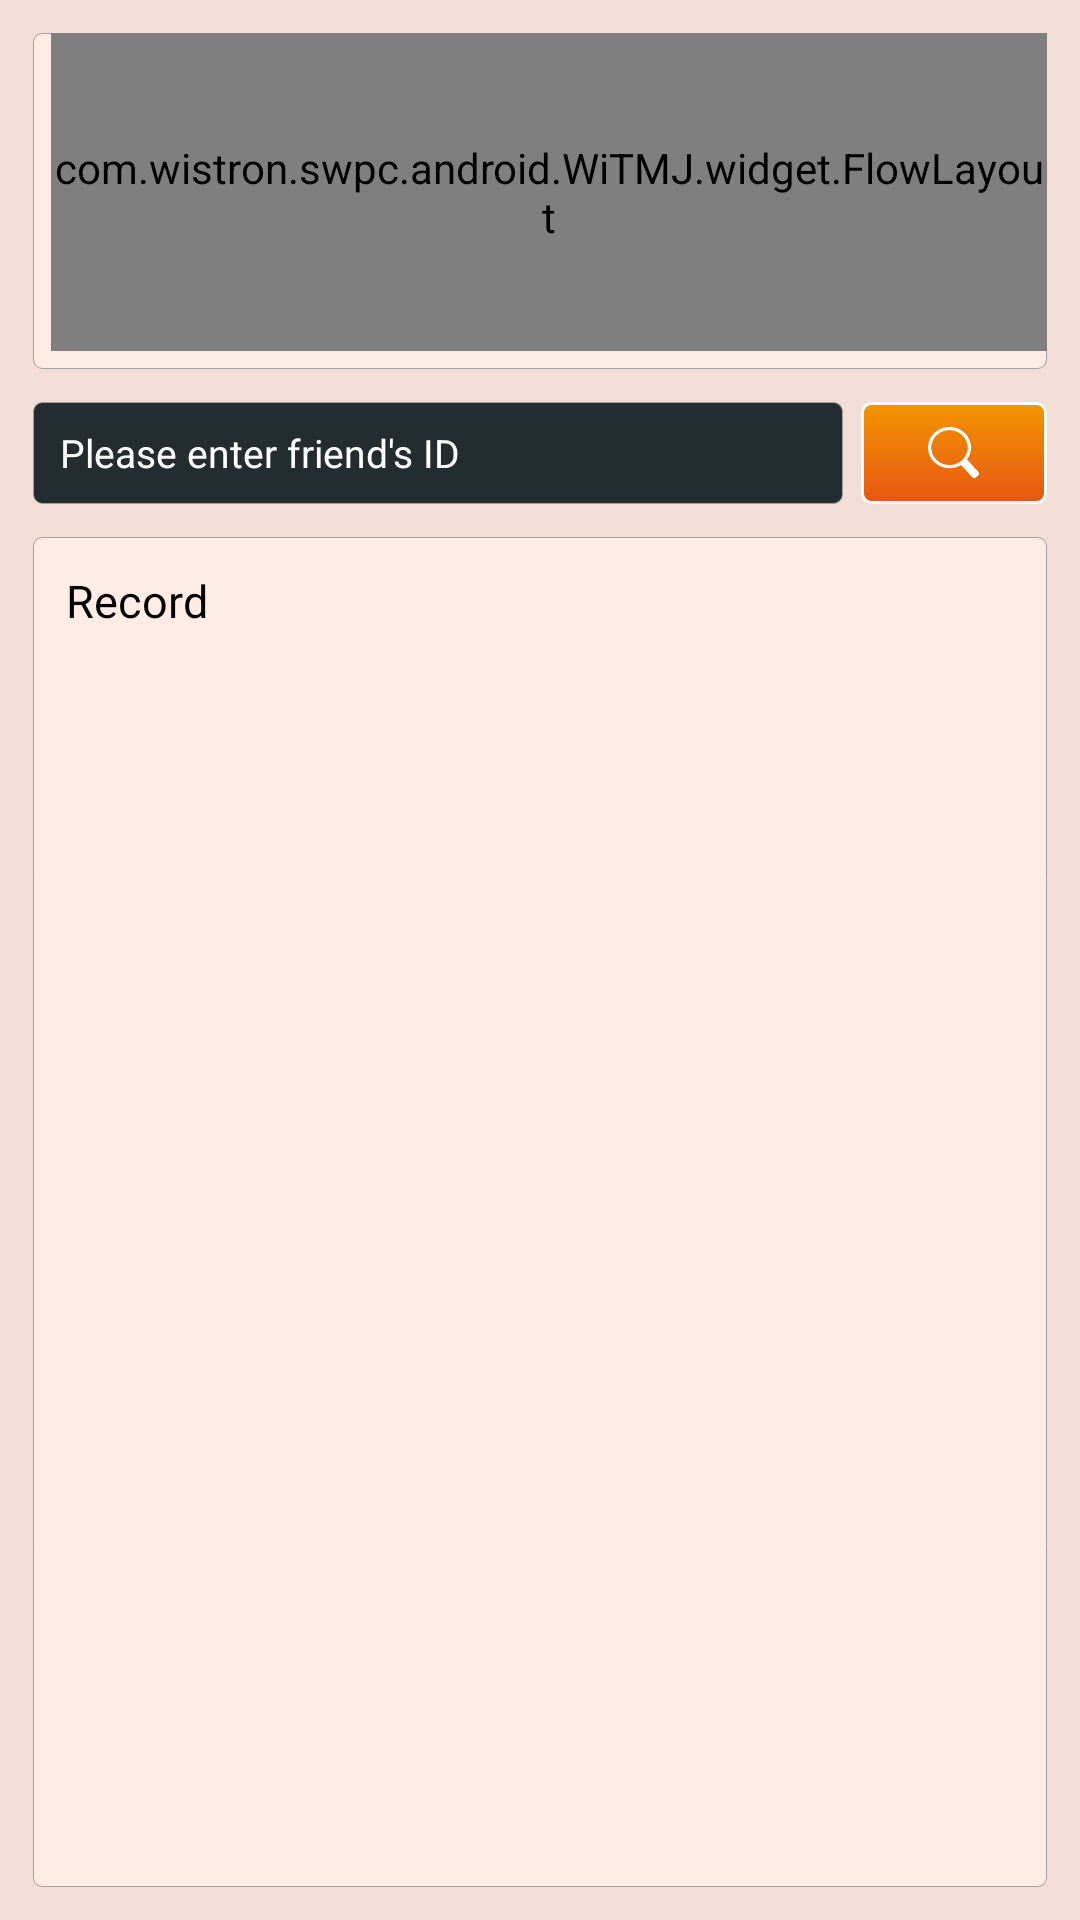

Icon click points for this 1080x1920 phone screenshot, format point (x, y):
search: point (953, 452)
